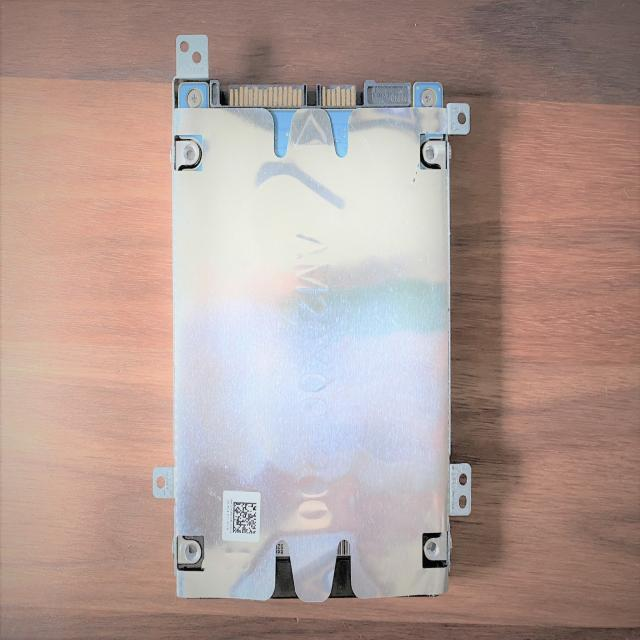PhillipsScrewHead: (420, 88, 437, 109), (186, 89, 202, 108)
